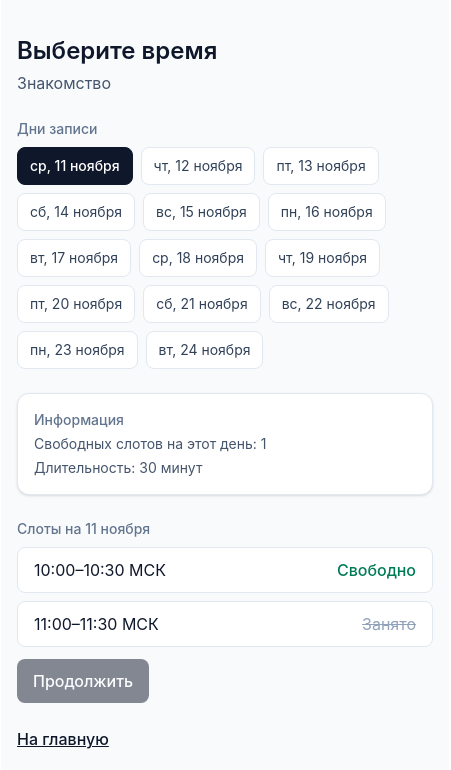
Test: Страница записи › «Продолжить» открывает форму имени и email
Click the button "10:00–10:30 МСК Свободно". click: (100,570)
box: top-left (17, 547), bottom-right (433, 593)
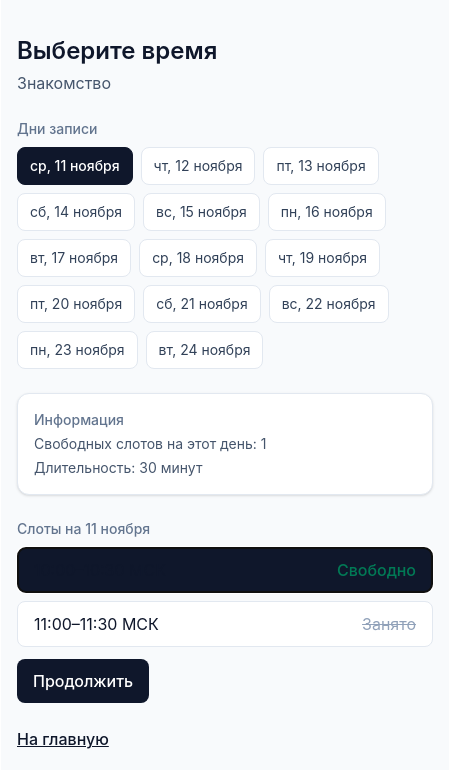
Click the button "Продолжить". click: (83,681)
box: top-left (17, 659), bottom-right (149, 703)
(page scrolled)
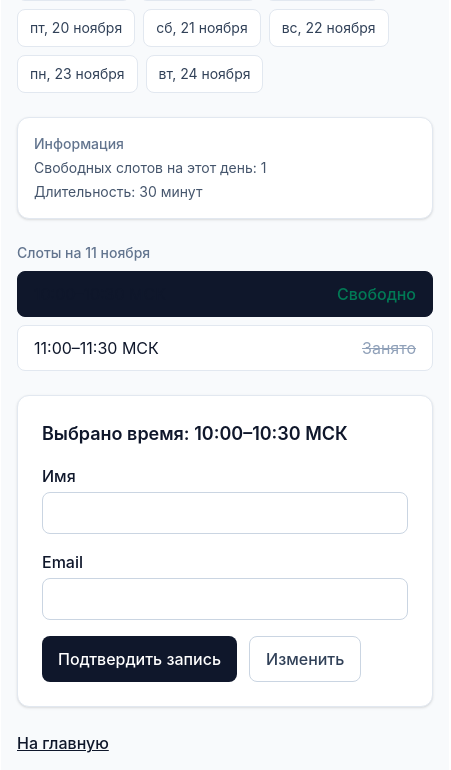
Now the heading "Выбрано время: 10:00–10:30 МСК" is shown, box top-left (42, 423), bottom-right (348, 444)
Now the field labelled "Имя" is shown, box top-left (42, 492), bottom-right (408, 534)
Now the field labelled "Email" is shown, box top-left (42, 578), bottom-right (408, 620)
